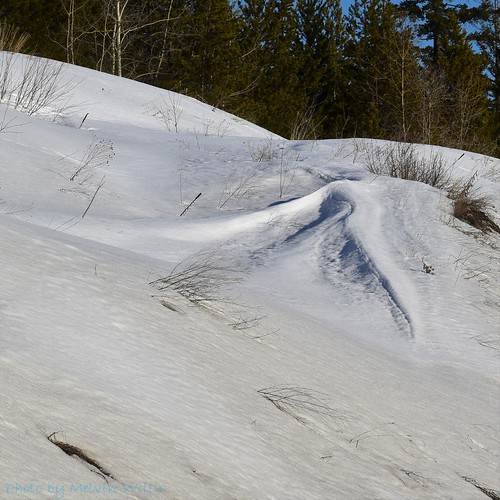vegetation: (38, 1, 492, 149)
